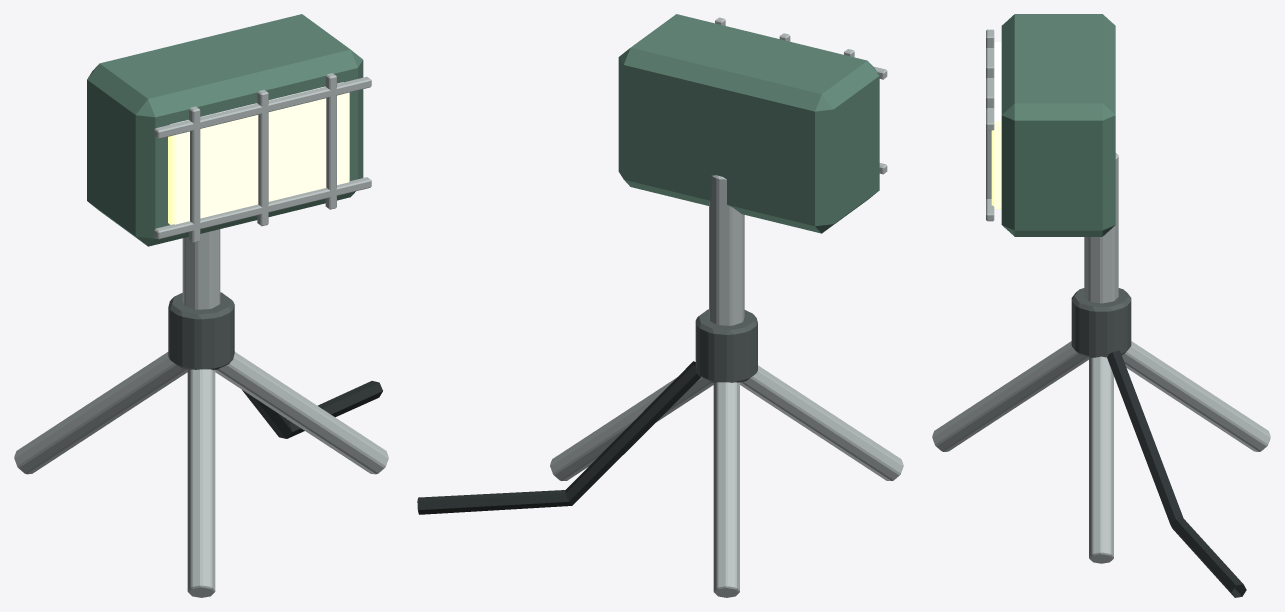
The model's file is runtime.glb.
The picture shows the model from 3 angles, left to right: view 1: azimuth 30°, elevation 25°; view 2: azimuth 150°, elevation 25°; view 3: azimuth 270°, elevation 25°; orthographic projection. The views are drawn at different scales.
Parts seen in each view (by area): view 1: reactor-maintenance-light-v05_nocol; view 2: reactor-maintenance-light-v05_nocol; view 3: reactor-maintenance-light-v05_nocol.
Boxes of the visible parts, <box> form: reactor-maintenance-light-v05_nocol: <box>14,14,388,597</box>; reactor-maintenance-light-v05_nocol: <box>417,14,903,597</box>; reactor-maintenance-light-v05_nocol: <box>932,14,1270,597</box>.
Bounding box in the file's own units: 1.62 × 2 × 1.42.
